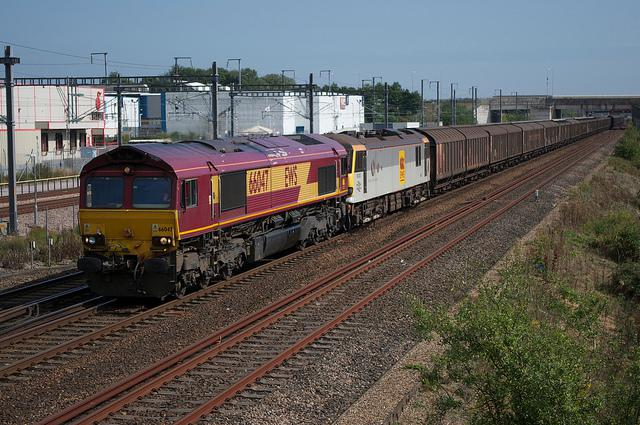Train: (74, 112, 629, 301)
